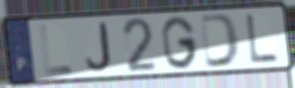2: (120, 16, 159, 74)
D: (198, 12, 243, 70)
G: (160, 14, 200, 71)
J: (85, 21, 114, 73)
L: (38, 23, 74, 77), (244, 13, 281, 64)
